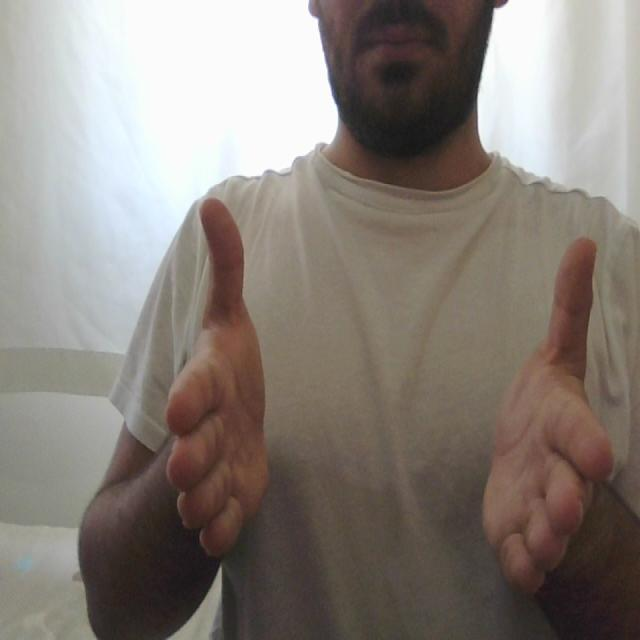Nasil: (161, 186, 623, 594)
